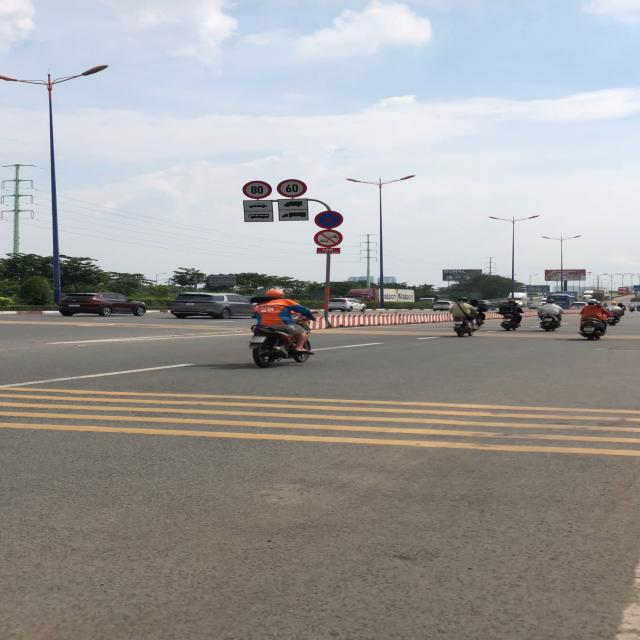Bien bao cam dung xe va do xe: (313, 210, 345, 229)
Bien bao toc do toi da cho phep: (241, 179, 273, 200), (276, 178, 309, 198)
